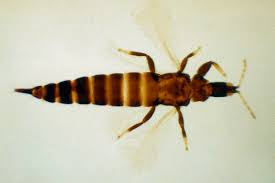Phlaeothripidae: (13, 31, 257, 151)
